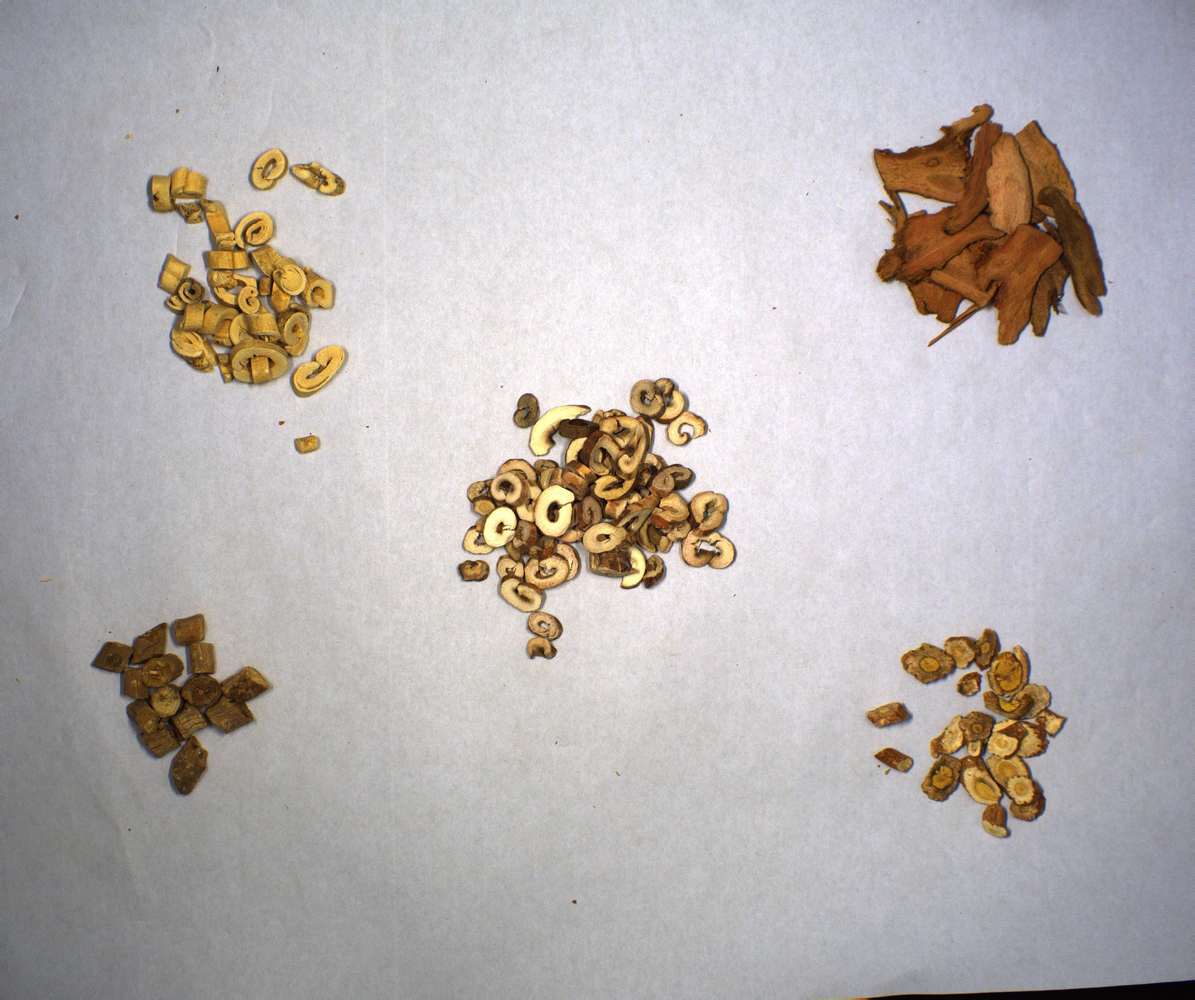baixianpi: (142, 147, 352, 458)
banlangen: (862, 627, 1066, 841)
gaoliangjiang: (873, 104, 1109, 351)
mudanpi: (457, 376, 740, 662)
niuxi: (92, 611, 276, 800)
